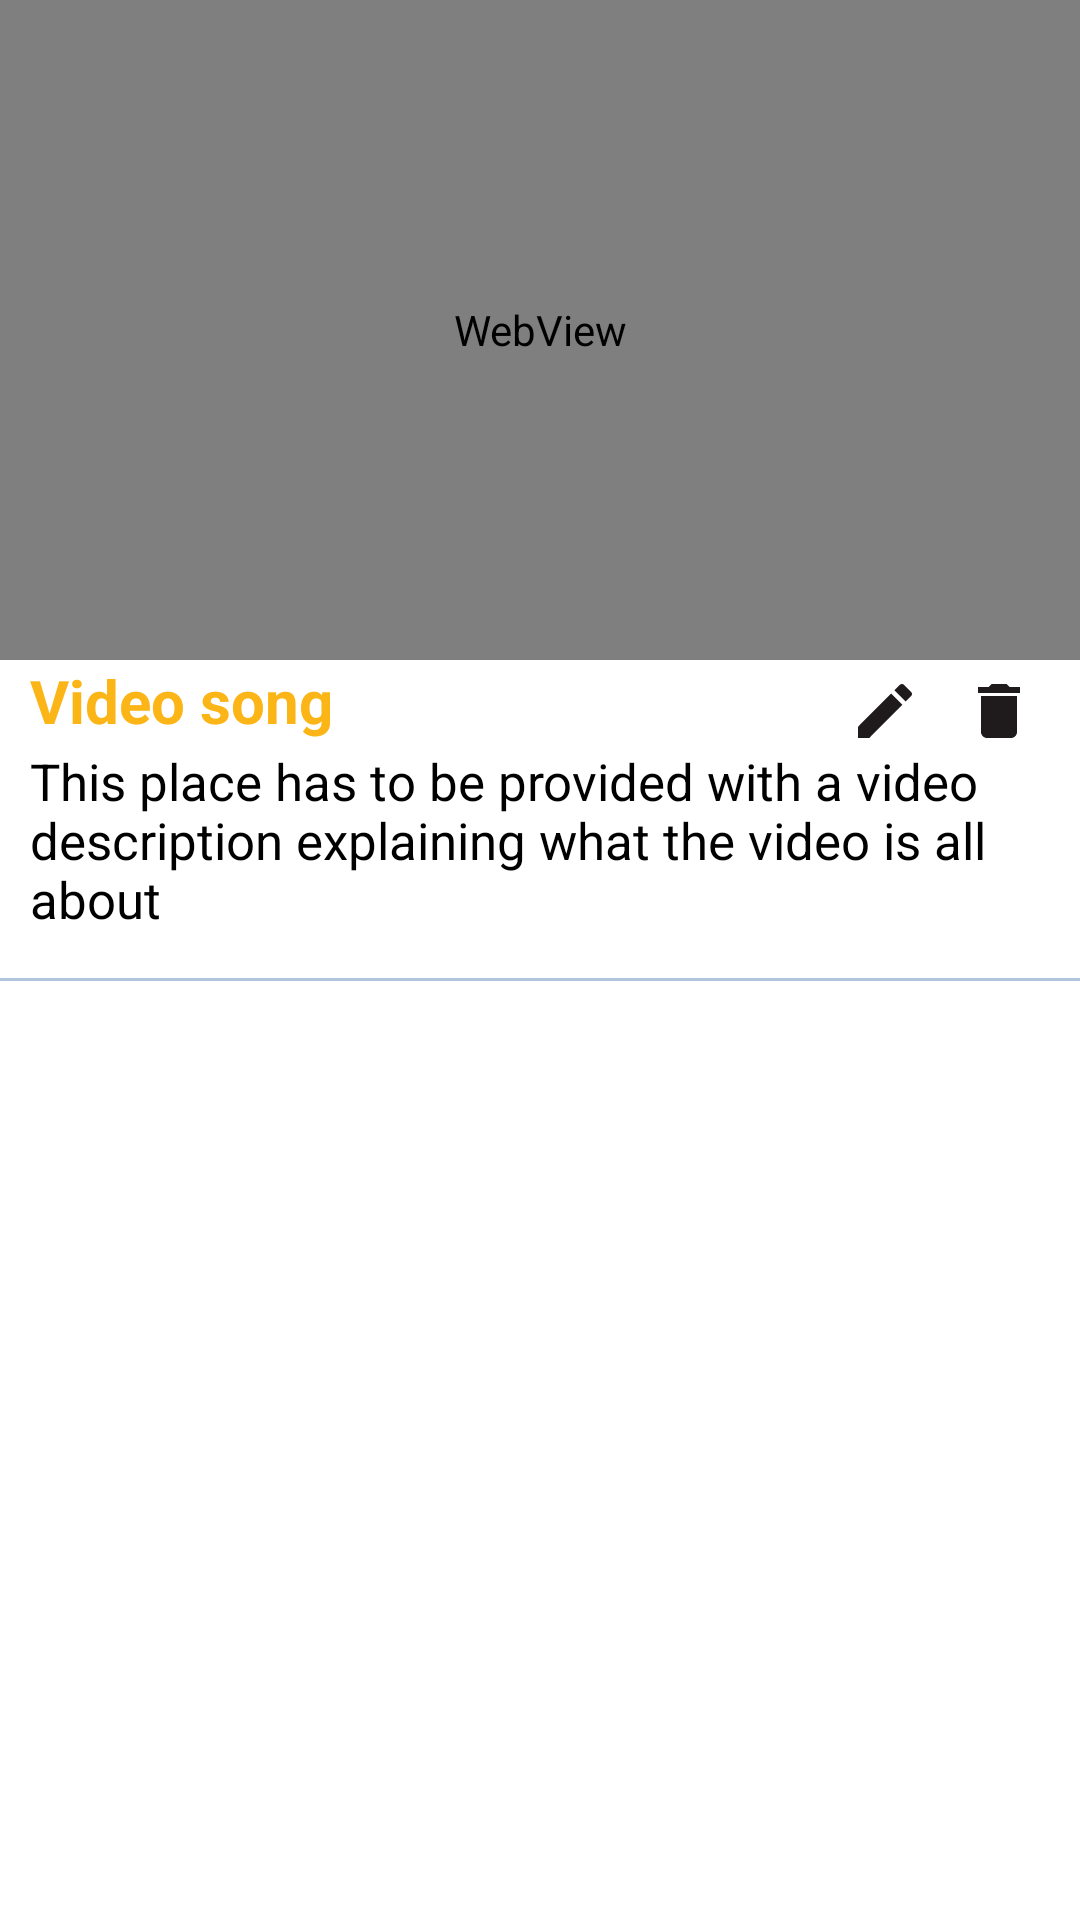

Screen size 1080 x 1920. Icon name, then its center in pixels as (x=x, y=y):
delete: (x=999, y=711)
edit: (x=885, y=711)
